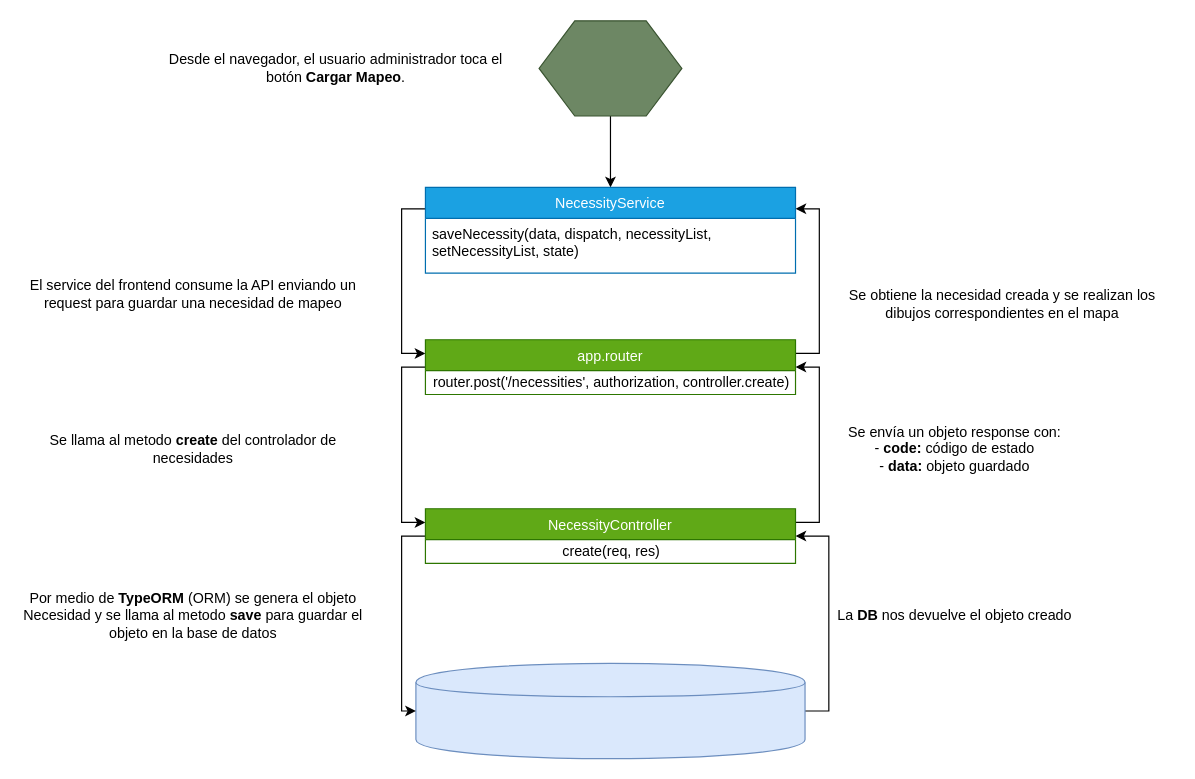
This 1195x779 diagram has some shape labels left out. The centre of each missing label's shape, as x and y in pixels:
Crear necesidad de mapeo: (610,68)
MySQL database: (610,710)
